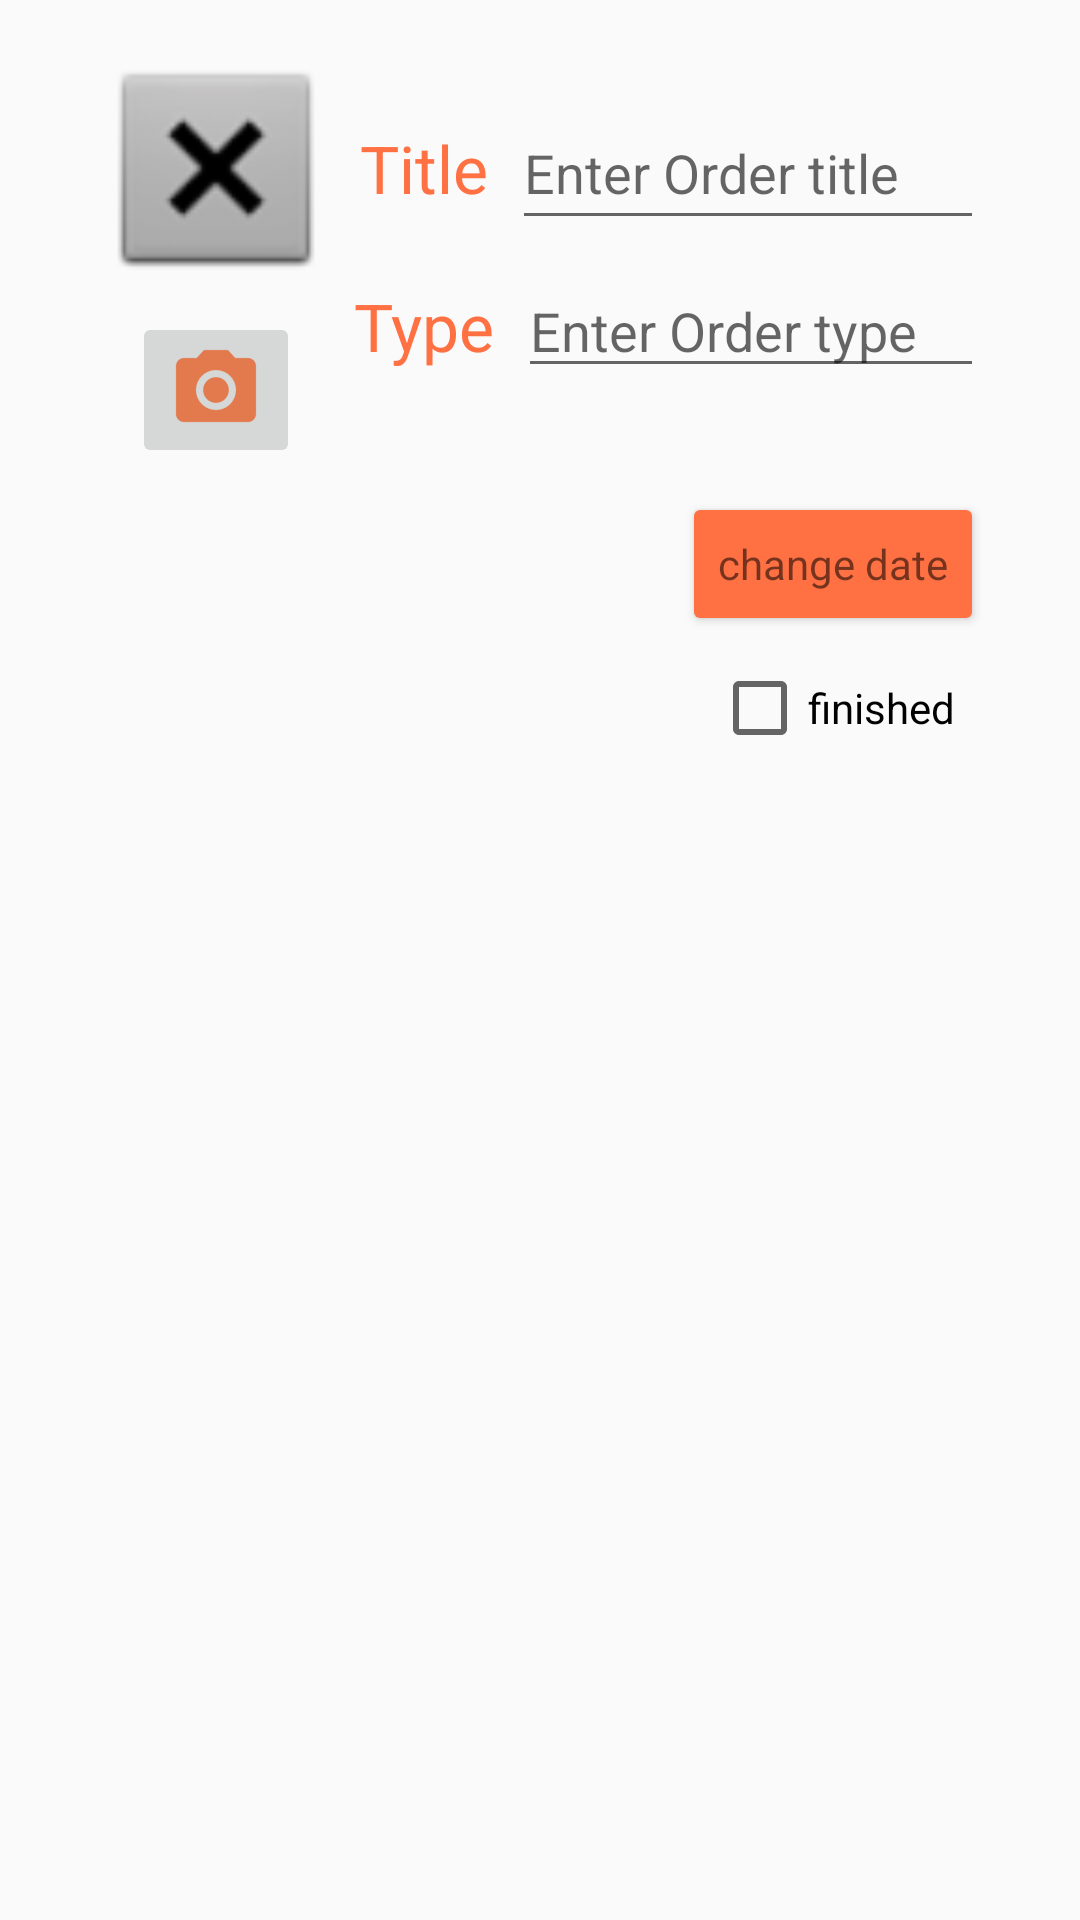

Icon click points for this 1080x1920 phone screenshot, format [x,y]:
camera: [216,390]
